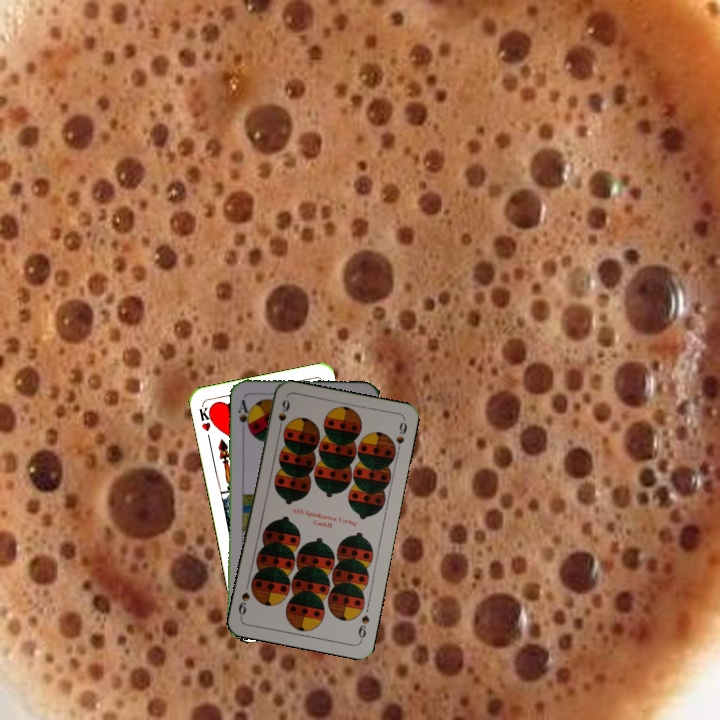HK: (195, 402, 217, 442)
S9: (274, 396, 292, 435), (354, 611, 372, 643)
SA: (234, 396, 253, 434)
